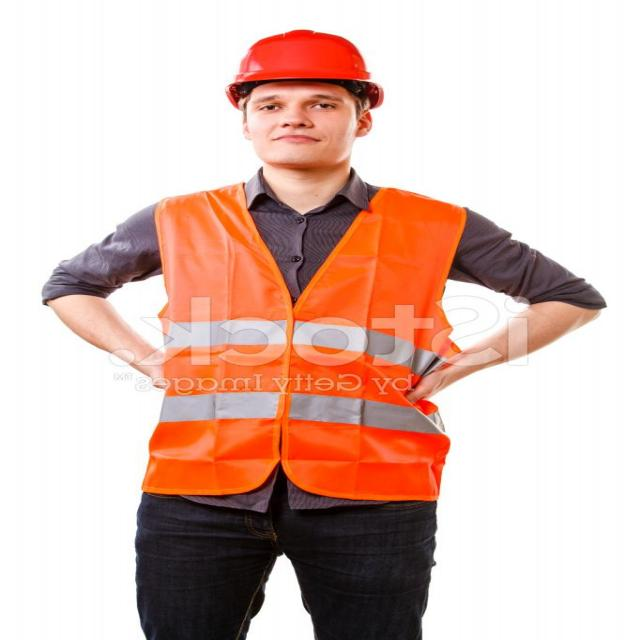Reflective-Jacket: (136, 183, 466, 503)
Safety-Helmet: (220, 26, 388, 99)
